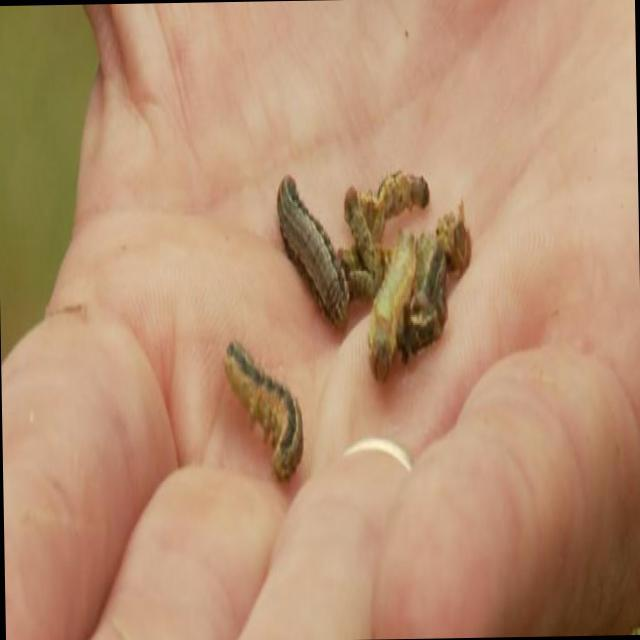Plaga: (273, 151, 357, 351), (219, 329, 310, 493), (400, 200, 478, 367), (364, 220, 421, 387), (373, 153, 435, 230), (342, 176, 388, 268)
